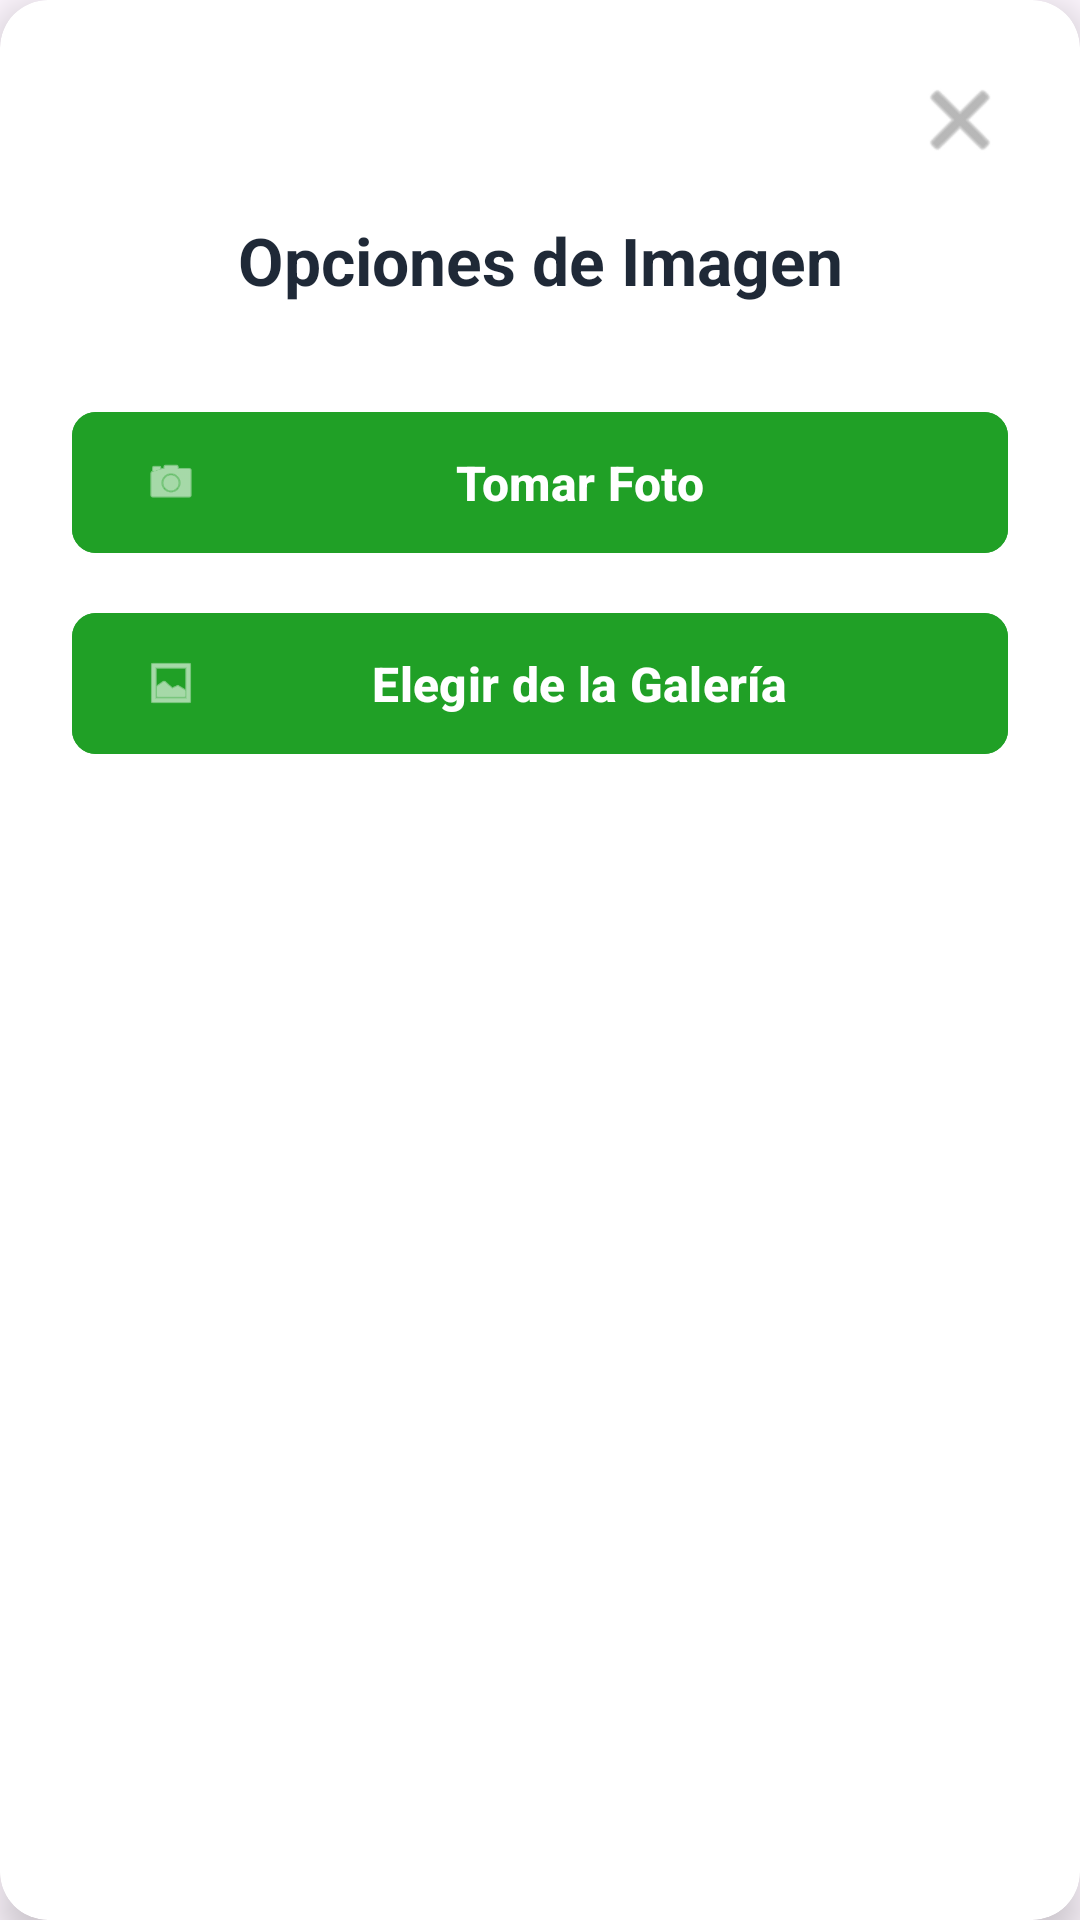

Where icons sit on this 1080px x 1920px app screen, as (x1, y1, x2, y2):
close clear cancel: (931, 91, 989, 149)
